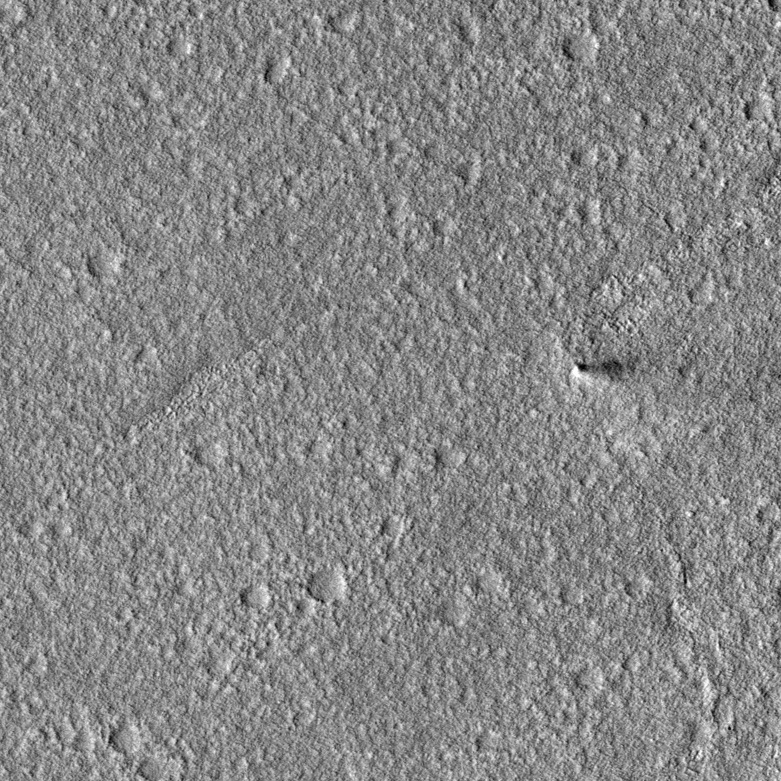dust_devil: (567, 356, 624, 384)
